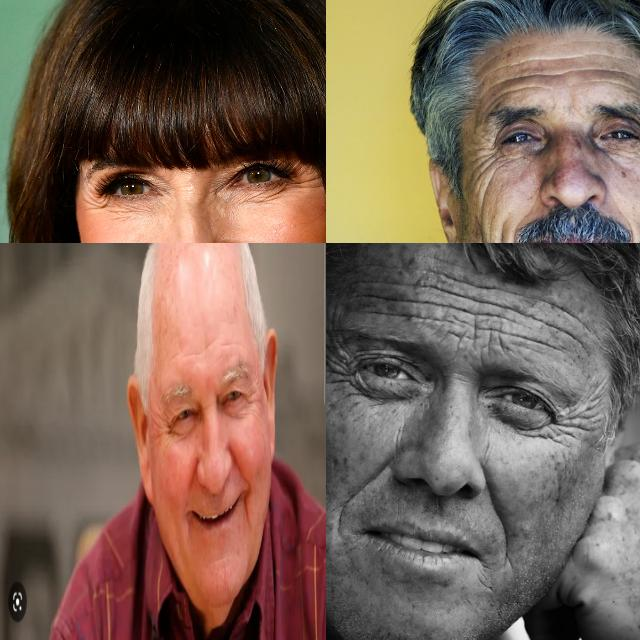crows_feet: (551, 405, 581, 445), (326, 342, 353, 380), (476, 136, 502, 172), (294, 166, 322, 190), (84, 186, 106, 212), (244, 384, 256, 416), (159, 414, 172, 442)
forehead: (552, 54, 624, 86), (492, 61, 542, 94), (496, 326, 546, 358), (378, 304, 432, 330), (367, 282, 417, 310), (430, 273, 468, 309), (452, 315, 488, 351), (476, 289, 522, 315), (530, 308, 566, 338), (548, 292, 580, 321), (189, 340, 214, 360)
gummy_smile: (346, 448, 392, 497), (481, 484, 514, 540), (332, 507, 348, 538), (499, 545, 516, 573)
masseter: (471, 193, 488, 243), (493, 221, 509, 243)
sad_smile: (618, 203, 637, 243), (477, 558, 493, 596), (243, 494, 250, 524), (511, 226, 519, 243)
